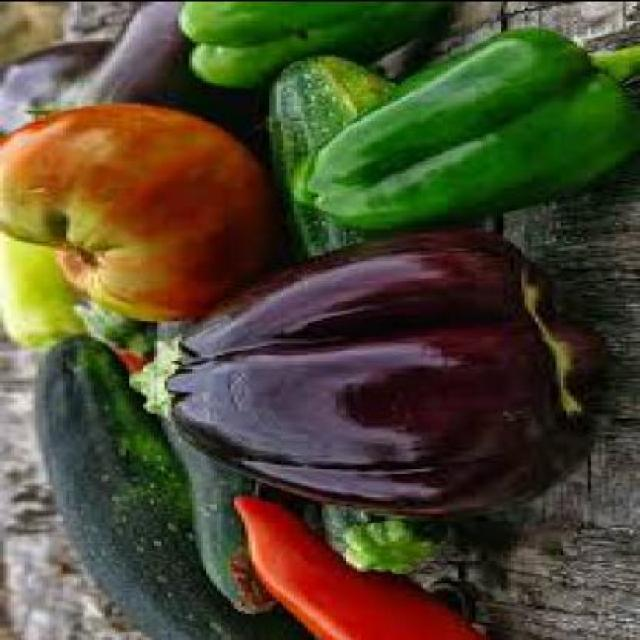BIODEGRADABLE: (122, 223, 606, 514), (262, 49, 455, 568), (24, 333, 301, 638), (283, 24, 637, 230), (70, 296, 273, 610), (0, 100, 280, 318), (227, 491, 493, 638), (56, 0, 265, 135), (174, 1, 451, 84), (0, 38, 105, 147), (1, 230, 84, 344)
